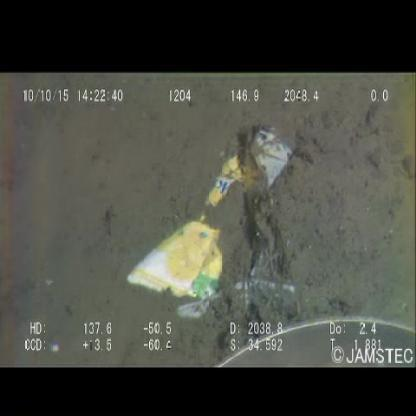Rác: (127, 126, 295, 304)
